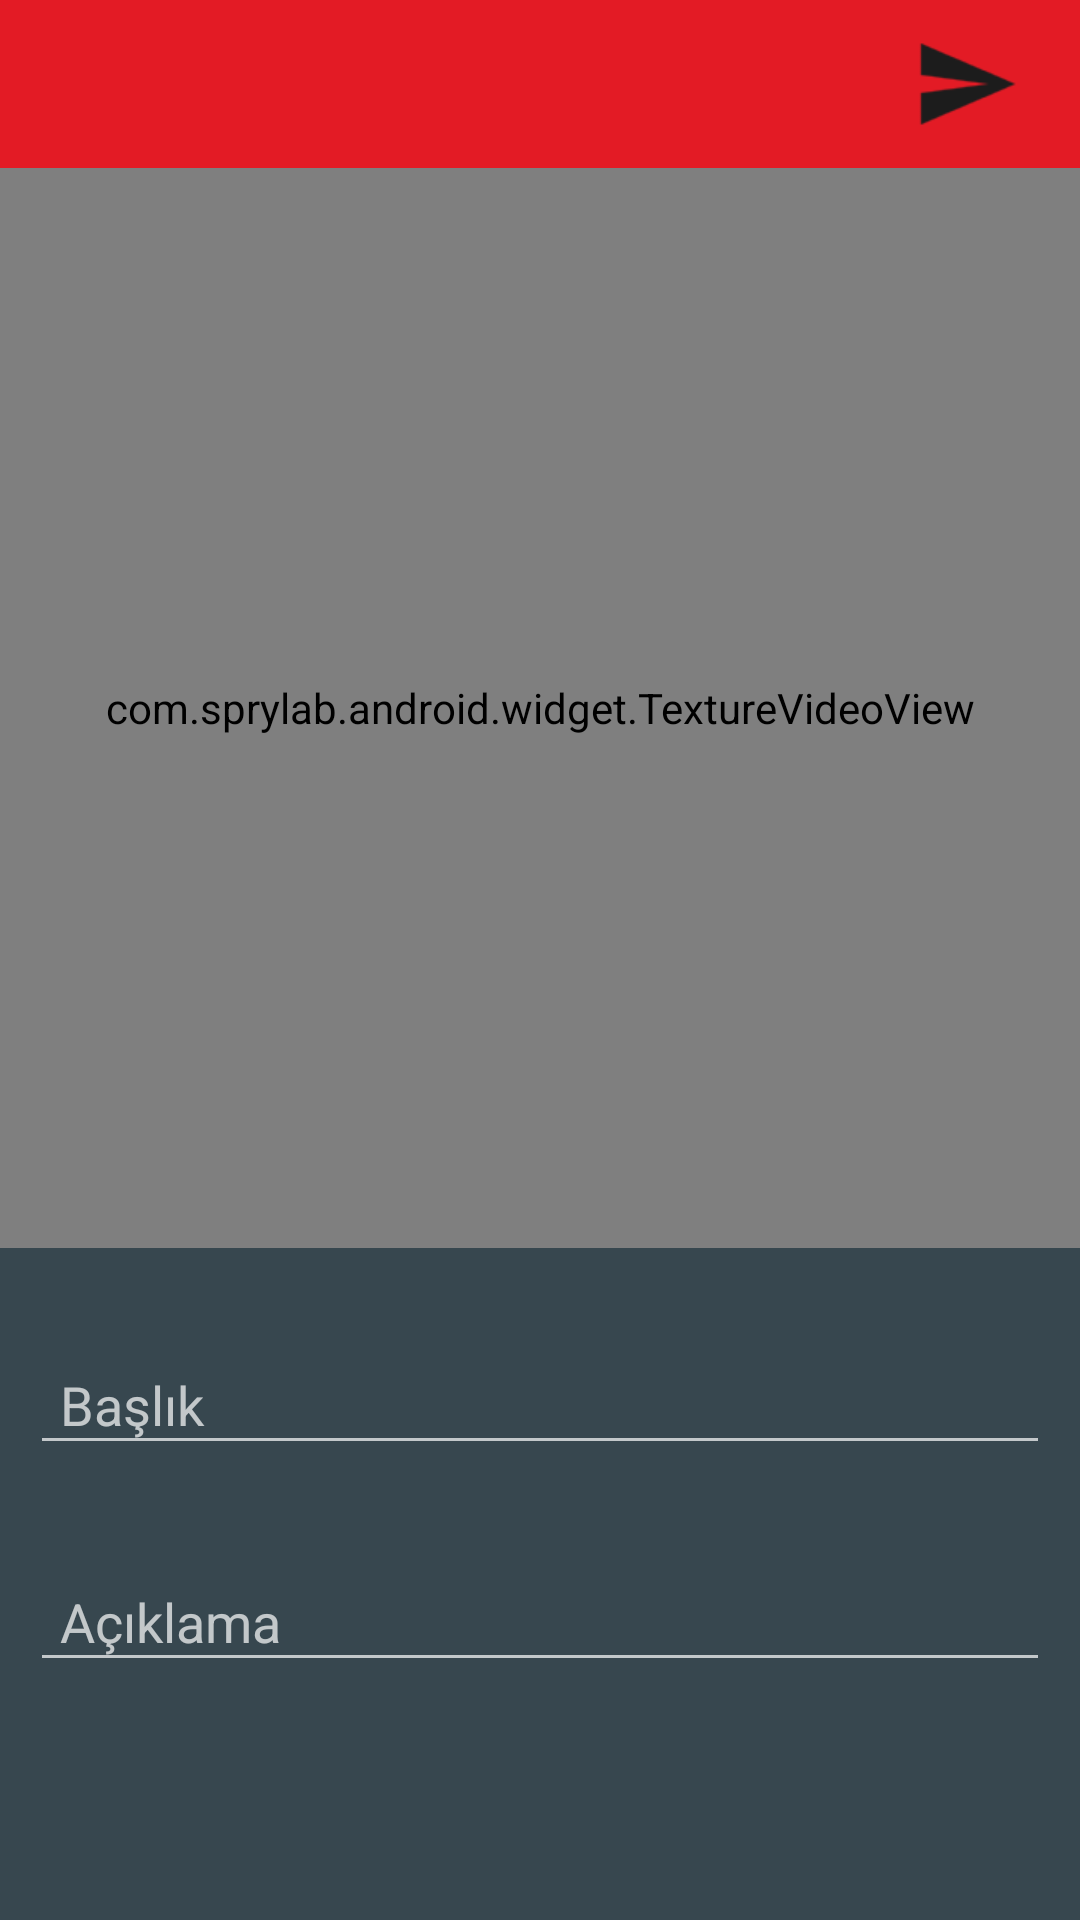

Named icons in this screenshot (1080 × 1920) and their centers, point (x, y):
send: point (967, 84)
